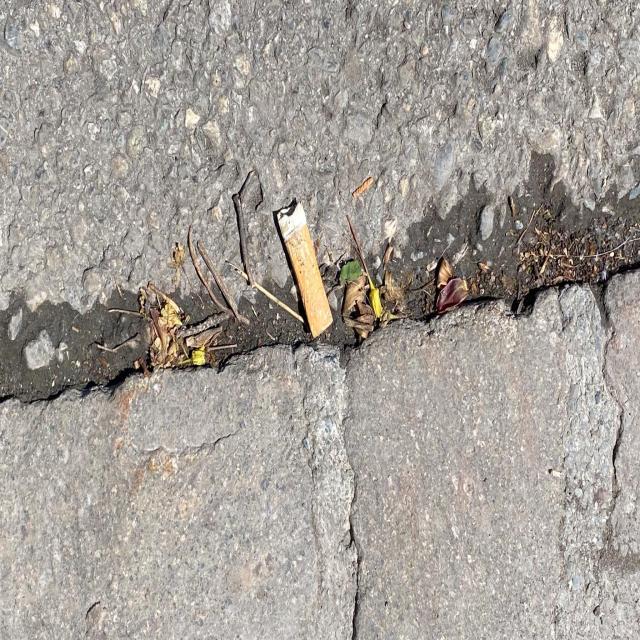other waste: (276, 199, 334, 340)
